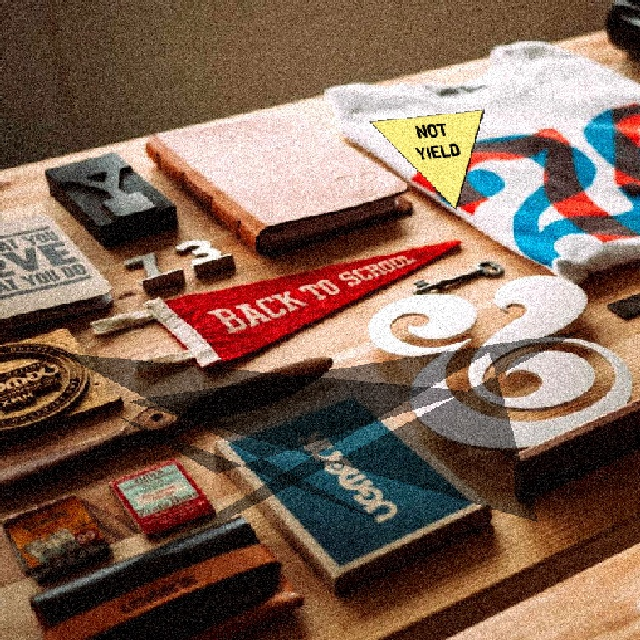NOT_YIELD: (368, 108, 483, 209)
